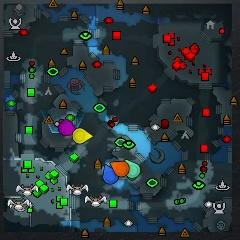p1: (102, 165, 119, 184)
p2: (125, 160, 141, 178)
p3: (58, 119, 76, 136)
p4: (73, 128, 93, 144)
p5: (110, 161, 129, 177)
